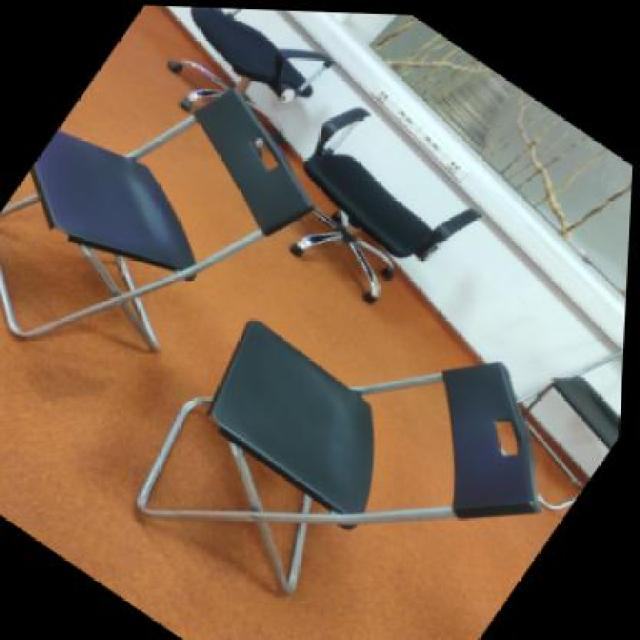chair: (105, 200, 624, 638), (0, 11, 340, 432), (235, 69, 533, 351), (112, 4, 383, 185), (480, 272, 628, 519)
